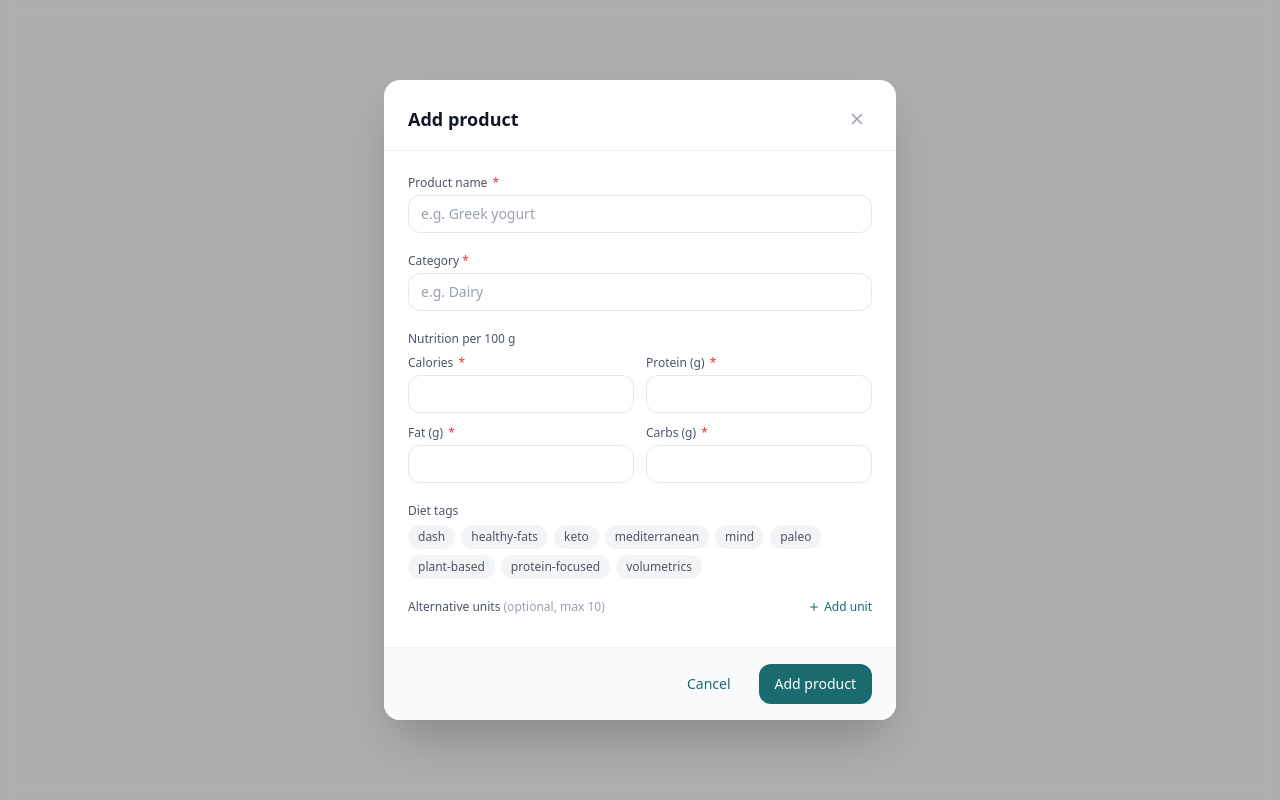
Test case: ProductForm › shows error for empty name on submit
Click the button "Add product": (815, 684) [759,664,872,704]
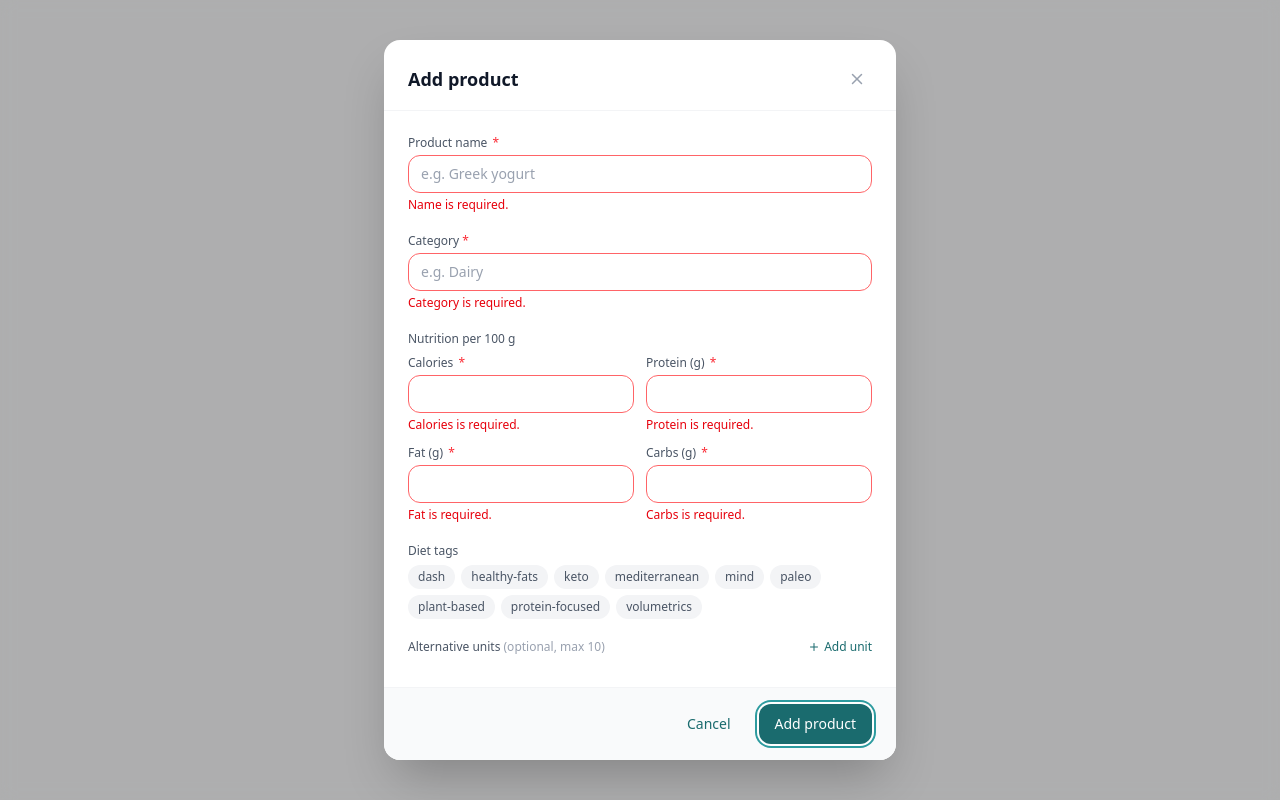
Now the text "Name is required." is shown, box [408,196,508,213]
